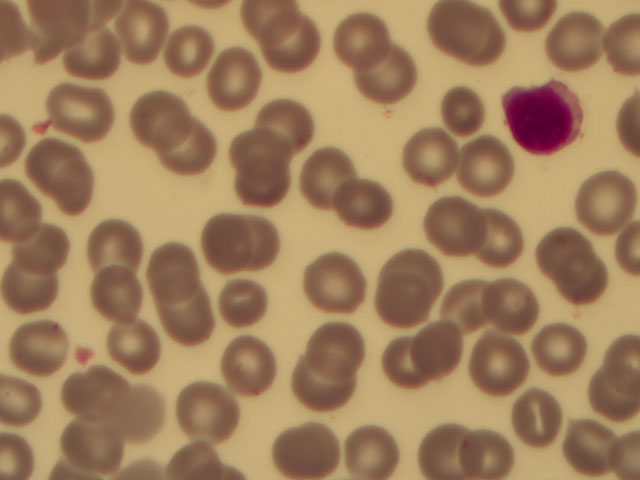Platelets: (73, 342, 96, 369)
RBC: (65, 27, 123, 84), (113, 1, 171, 58), (162, 26, 220, 83), (207, 49, 265, 106), (136, 88, 194, 145), (163, 125, 221, 182), (53, 84, 111, 141), (29, 128, 87, 185), (42, 163, 100, 220), (4, 220, 62, 277), (1, 256, 59, 313), (88, 216, 146, 273), (90, 262, 148, 319), (102, 311, 160, 368), (69, 372, 127, 429), (10, 322, 68, 379), (66, 414, 124, 471), (118, 384, 176, 441), (184, 387, 242, 444), (214, 336, 272, 393), (164, 290, 222, 347), (148, 244, 206, 301), (199, 213, 257, 270), (240, 205, 298, 262), (214, 274, 272, 331), (305, 252, 363, 309), (340, 176, 398, 233), (302, 151, 360, 208), (231, 122, 289, 179), (232, 157, 290, 214), (261, 102, 319, 159), (261, 8, 319, 65), (336, 11, 394, 68), (362, 45, 420, 102), (429, 72, 487, 129), (403, 120, 461, 177), (458, 139, 516, 196), (431, 1, 489, 58), (548, 11, 606, 68), (431, 198, 489, 255), (468, 206, 526, 263), (388, 238, 446, 295), (377, 271, 435, 328), (445, 273, 503, 330), (477, 272, 535, 329), (416, 313, 474, 370), (388, 333, 446, 390), (466, 334, 524, 391), (314, 323, 372, 380), (295, 357, 353, 414), (277, 423, 335, 480), (340, 423, 398, 480), (410, 423, 468, 480), (456, 423, 514, 480), (508, 394, 566, 451), (534, 318, 592, 375), (557, 252, 615, 309), (536, 223, 594, 280), (582, 172, 640, 229), (582, 370, 640, 427), (560, 418, 618, 475)
WBC: (505, 77, 586, 157)
